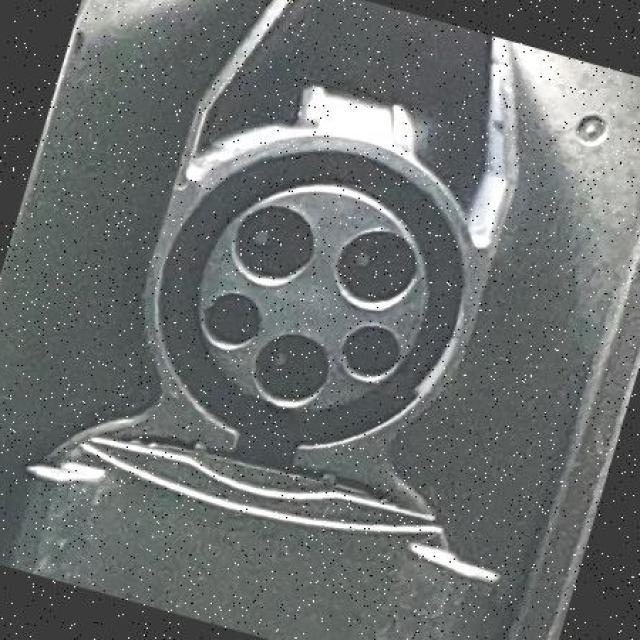Type 1: (164, 146, 460, 426)
